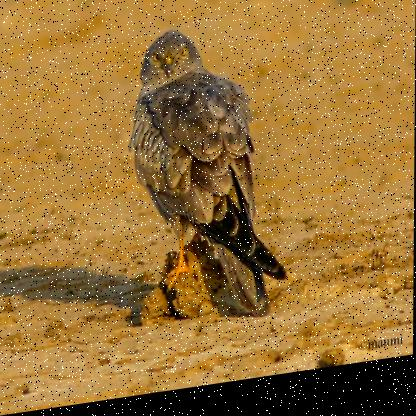Burung: (123, 19, 295, 339)
